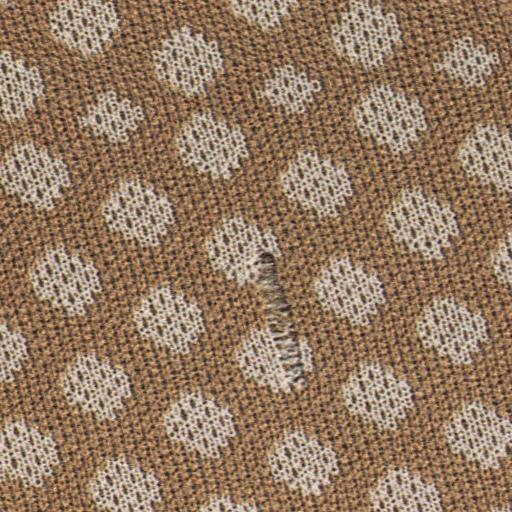slub: (237, 240, 320, 403)
